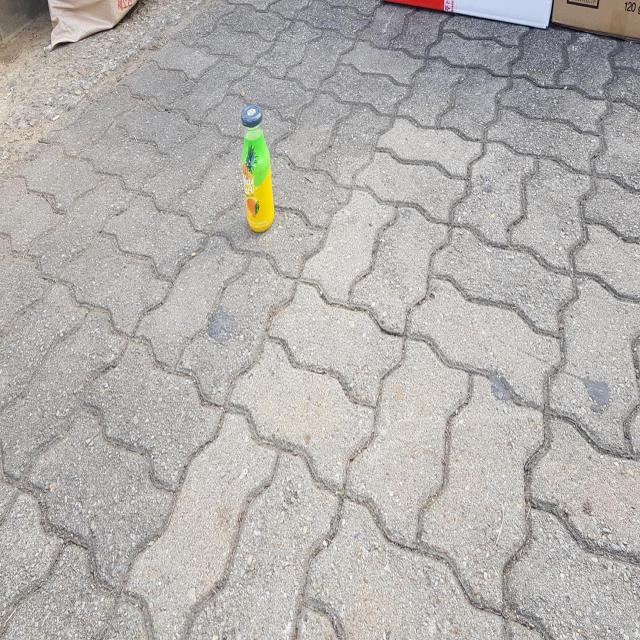glass: (241, 103, 274, 231)
